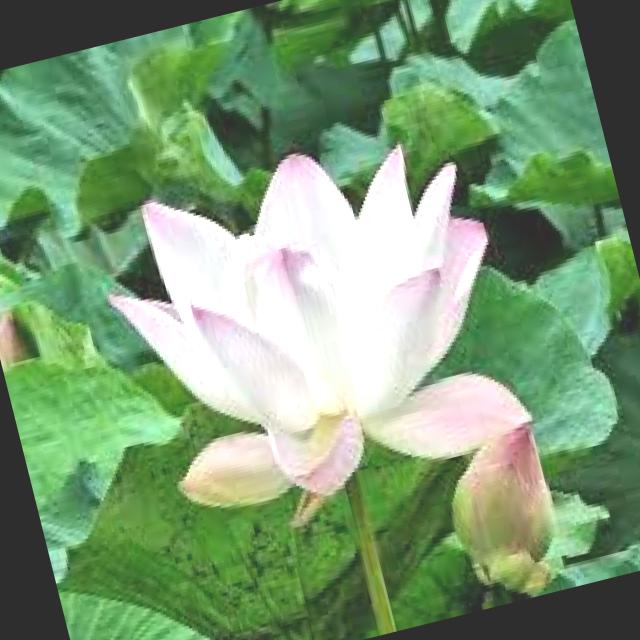lotus: (74, 87, 568, 602)
